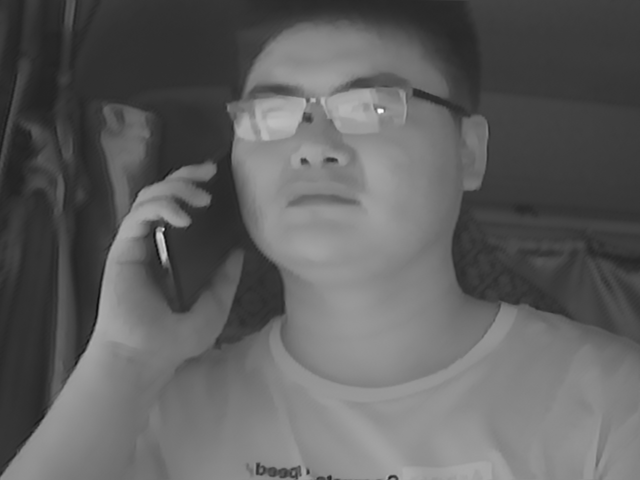hand: (101, 160, 236, 359)
